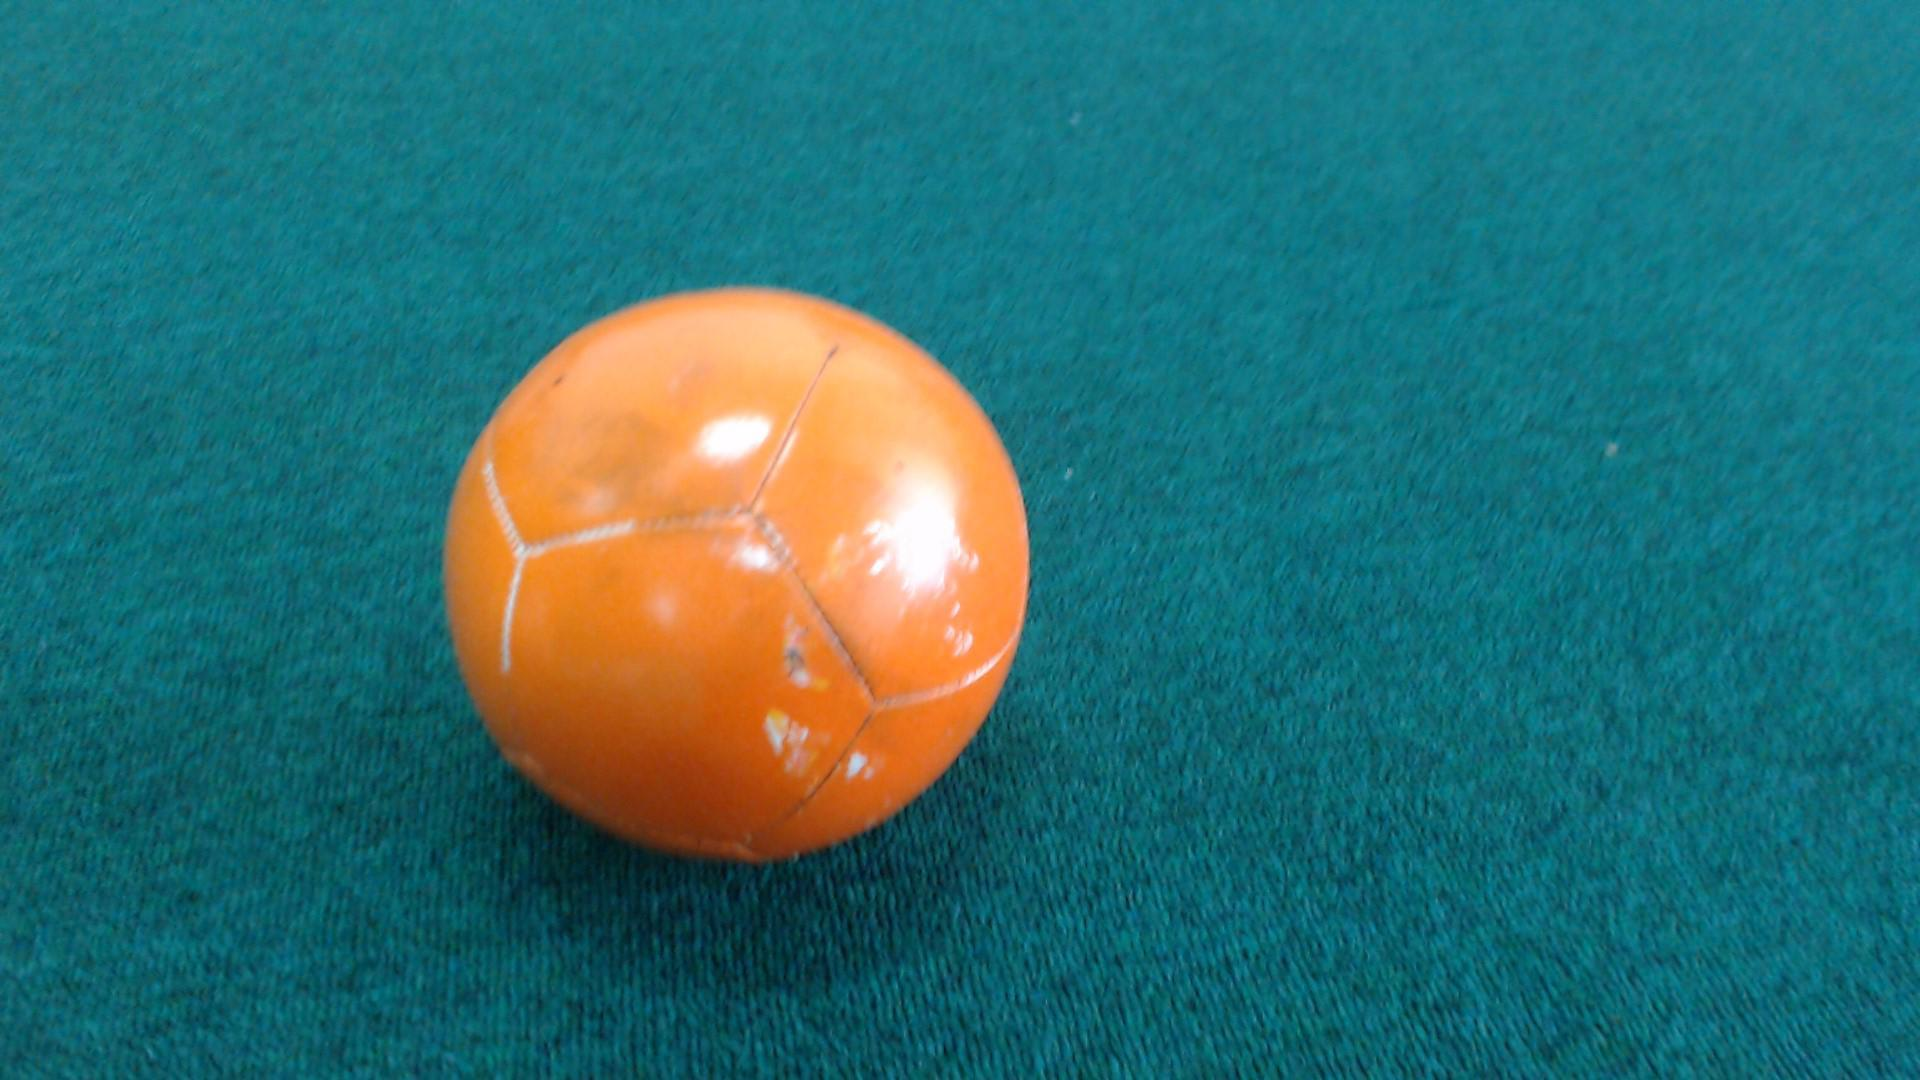bola: (429, 280, 1056, 880)
